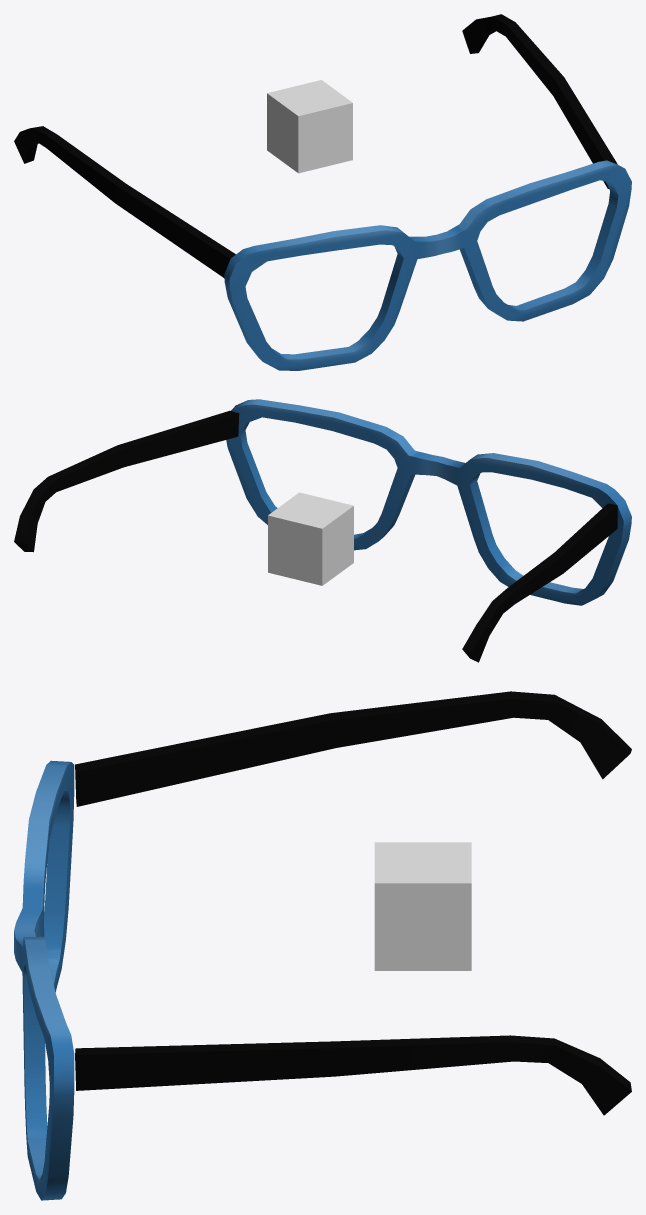
File: boy_glasses8.FBX
3 views of the same model, one above another, from view 1: azimuth 30°, elevation 25°; view 2: azimuth 150°, elevation 25°; view 3: azimuth 270°, elevation 25° (orthographic). The views are drawn at different scales.
Visible parts, largest first — view 1: boy_glasses10, faceSpawn; view 2: boy_glasses10, faceSpawn; view 3: boy_glasses10, faceSpawn.
Boxes of the visible parts, left/top/right/bottom form: boy_glasses10: left=14, top=14, right=631, bottom=370; faceSpawn: left=267, top=80, right=352, bottom=173; boy_glasses10: left=14, top=399, right=631, bottom=662; faceSpawn: left=268, top=492, right=353, bottom=585; boy_glasses10: left=14, top=691, right=631, bottom=1200; faceSpawn: left=374, top=842, right=471, bottom=970.
Bounding box in the file's own units: 42.88 × 13.11 × 31.89.
